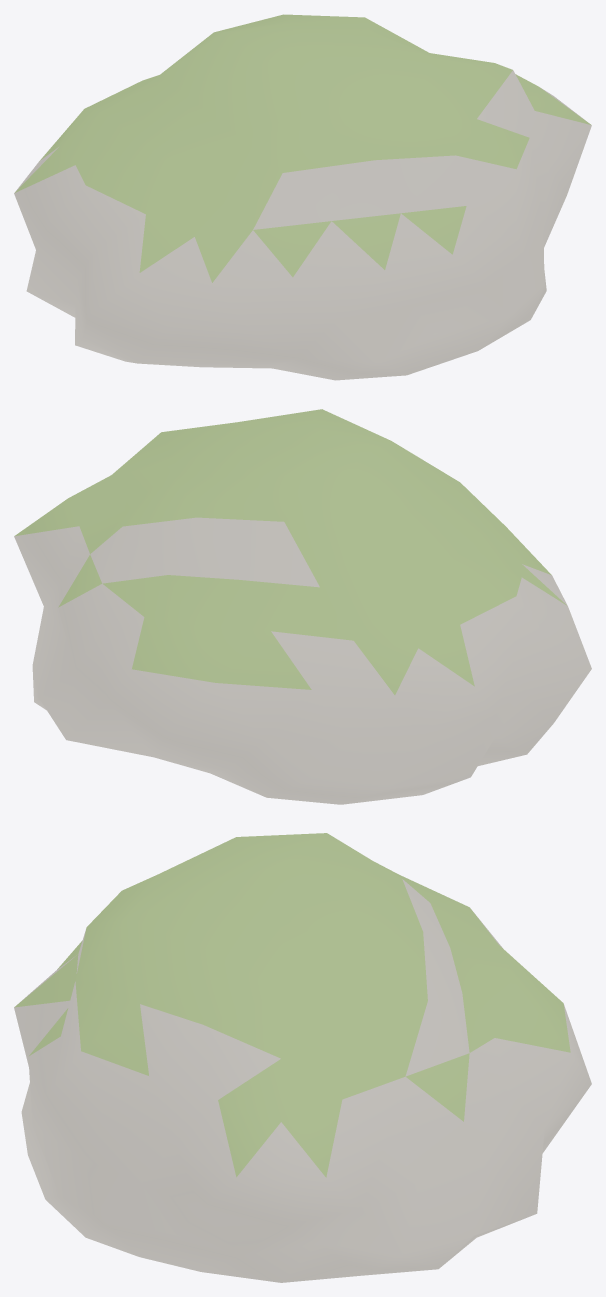
Rendered from Blender_BoulderRound_3.glb.
The picture shows the model from 3 angles, top to bottom: view 1: azimuth 30°, elevation 25°; view 2: azimuth 150°, elevation 25°; view 3: azimuth 270°, elevation 25°; orthographic projection. The views are drawn at different scales.
Visible parts, largest first — view 1: Blender_BoulderRound_3; view 2: Blender_BoulderRound_3; view 3: Blender_BoulderRound_3.
Part boxes in pixels (x1,y1,x2,y2): Blender_BoulderRound_3: [14, 14, 591, 380]; Blender_BoulderRound_3: [14, 409, 591, 804]; Blender_BoulderRound_3: [14, 833, 591, 1282].
Size of the model in its own units: 2.68 by 1.34 by 2.25.
